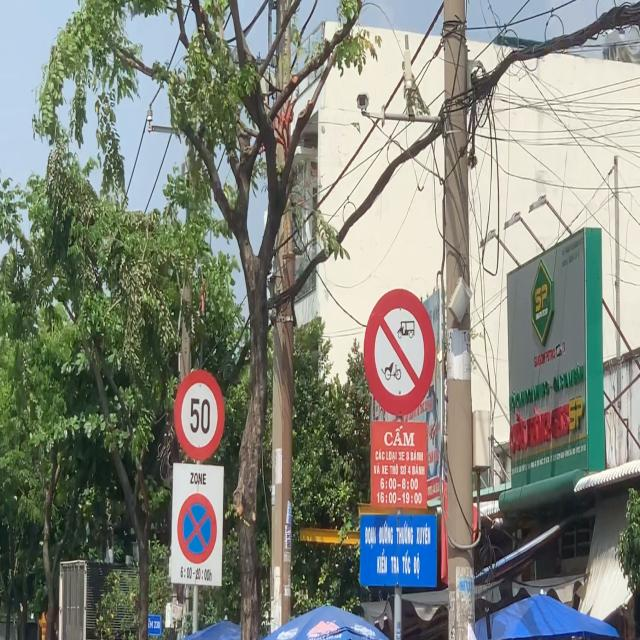Cam con lai: (362, 287, 437, 418)
Cam dung va do: (178, 493, 218, 564)
Toc do toi da: (174, 369, 225, 461)
